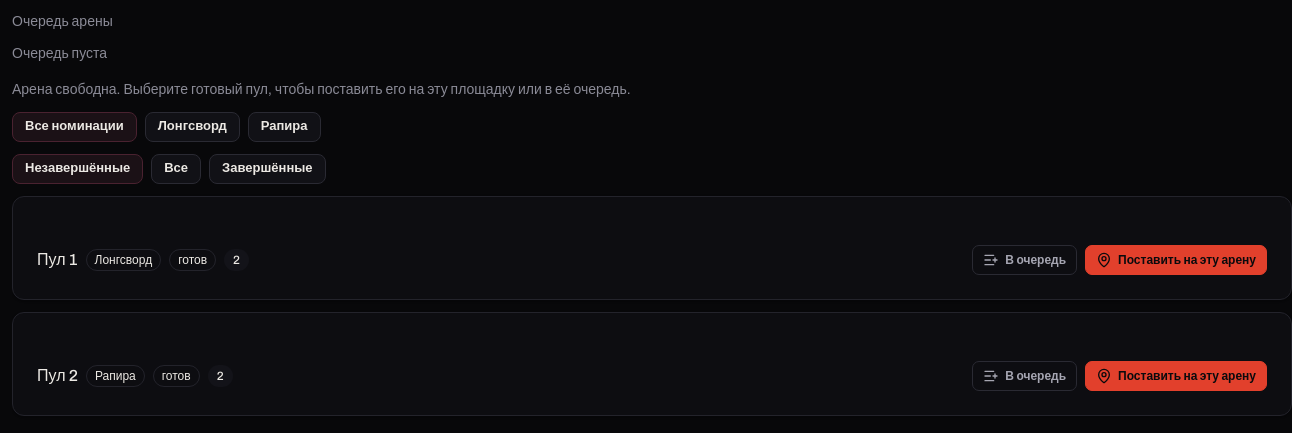
it: PoolSeating — постановка пула (спека 0033, FR-12..FR-14) › AC-6: filters the list by nomination chip, and 'Все номинации' restores the full list
The image size is (1292, 433).
Check: the text "Пул 1" is shown, box [37,248,78,272]
Check: the text "Пул 2" is shown, box [37,364,78,388]
Click the button "Лонгсворд" at (192, 127), box [145,112,240,142]
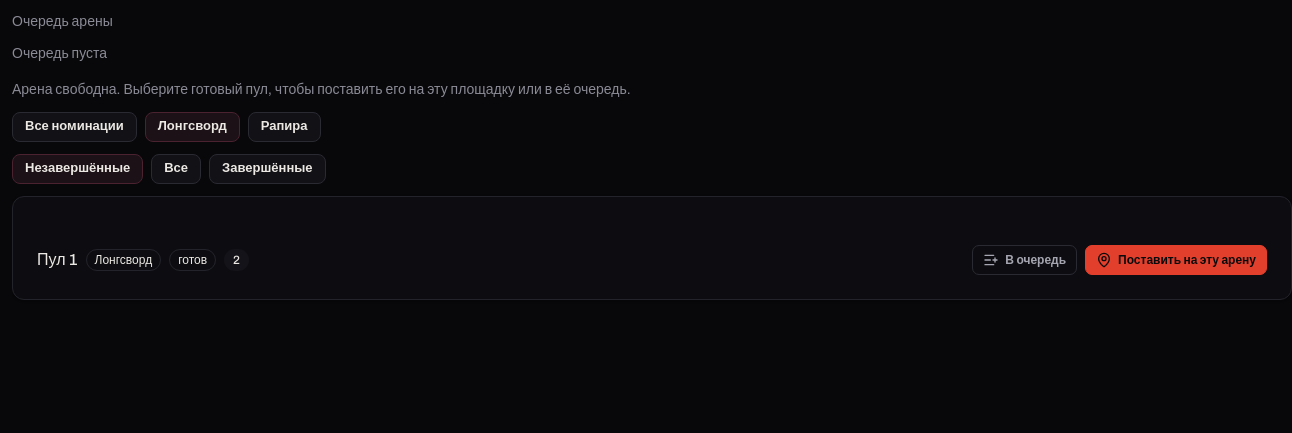
Check: the text "Пул 1" is shown, box [37,248,78,272]
Check: the text "Пул 2" is gone
Click the button "Рапира" at (284, 127), box [248,112,321,142]
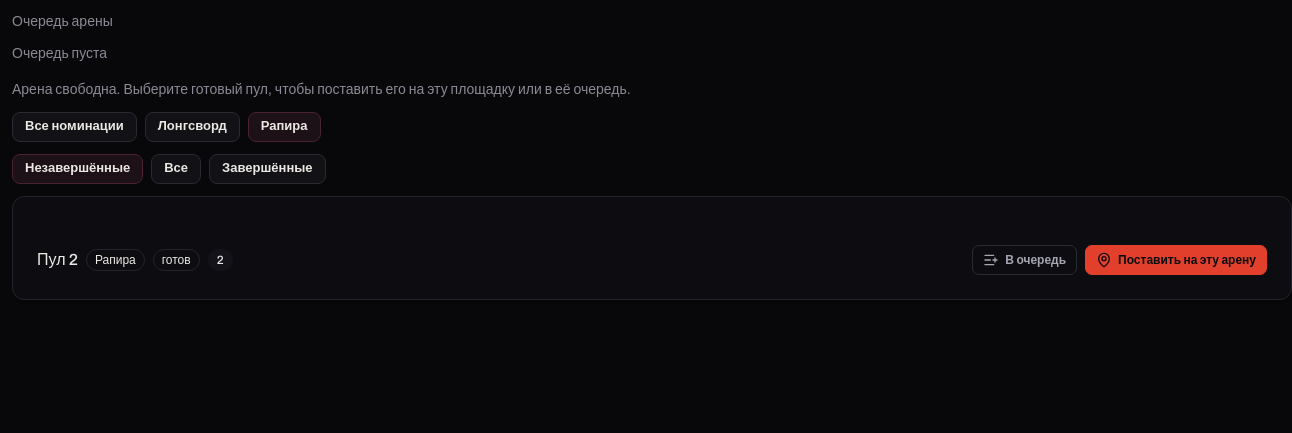
Check: the text "Пул 1" is gone
Check: the text "Пул 2" is shown, box [37,248,78,272]
Click the button "Все номинации" at (74, 127), box [12,112,137,142]
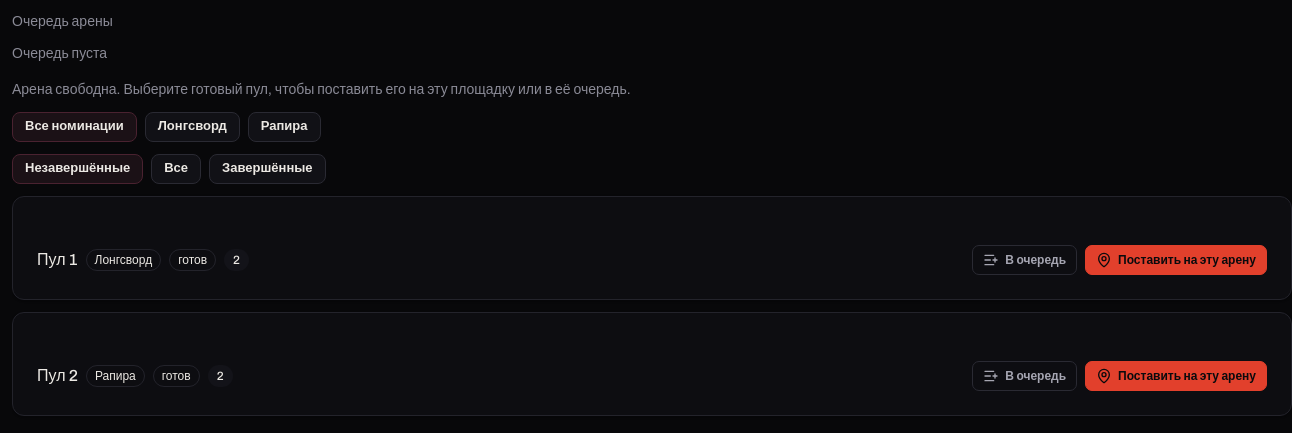
Check: the text "Пул 2" is shown, box [37,364,78,388]
Check: the text "Пул 1" is shown, box [37,248,78,272]
